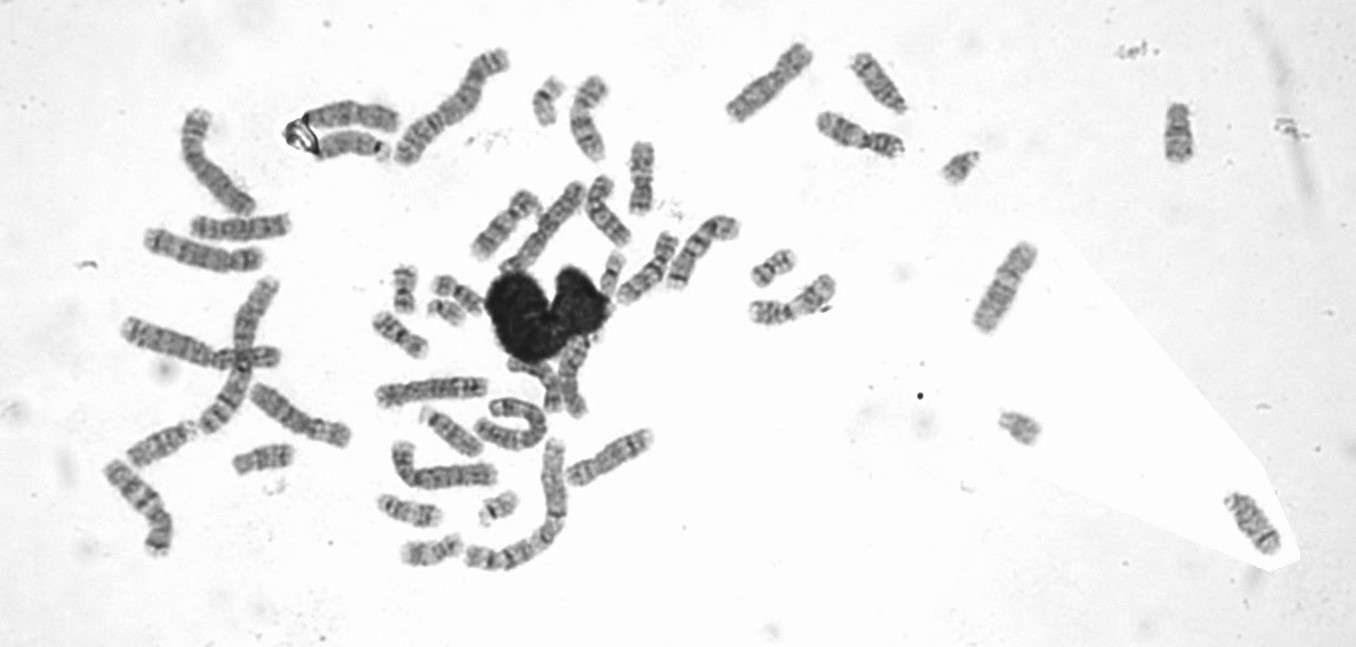chromosomes: (461, 438, 574, 580), (194, 272, 288, 441), (396, 46, 519, 173), (105, 312, 280, 380), (494, 178, 595, 285), (92, 451, 178, 568), (712, 42, 822, 129), (175, 105, 261, 215), (242, 374, 358, 454), (974, 238, 1050, 342), (659, 213, 749, 298), (131, 224, 269, 278), (386, 435, 502, 499), (1213, 478, 1295, 568), (562, 421, 660, 495), (814, 104, 913, 171), (616, 226, 683, 313), (748, 273, 847, 331), (466, 189, 542, 264), (567, 71, 621, 172), (853, 48, 919, 128), (367, 377, 497, 416), (410, 403, 488, 467), (553, 332, 609, 421), (476, 397, 550, 464), (583, 171, 642, 255), (181, 212, 303, 251), (291, 95, 404, 137), (358, 306, 436, 363), (123, 414, 202, 470), (311, 129, 397, 176), (502, 357, 567, 419), (391, 527, 469, 578), (424, 266, 491, 318), (221, 440, 299, 483), (372, 495, 448, 534), (994, 403, 1050, 454), (1163, 98, 1203, 169), (467, 484, 524, 532), (748, 246, 804, 293), (937, 143, 990, 192), (628, 136, 659, 219), (386, 259, 423, 318), (532, 74, 568, 132), (425, 296, 470, 336), (599, 250, 631, 302)
